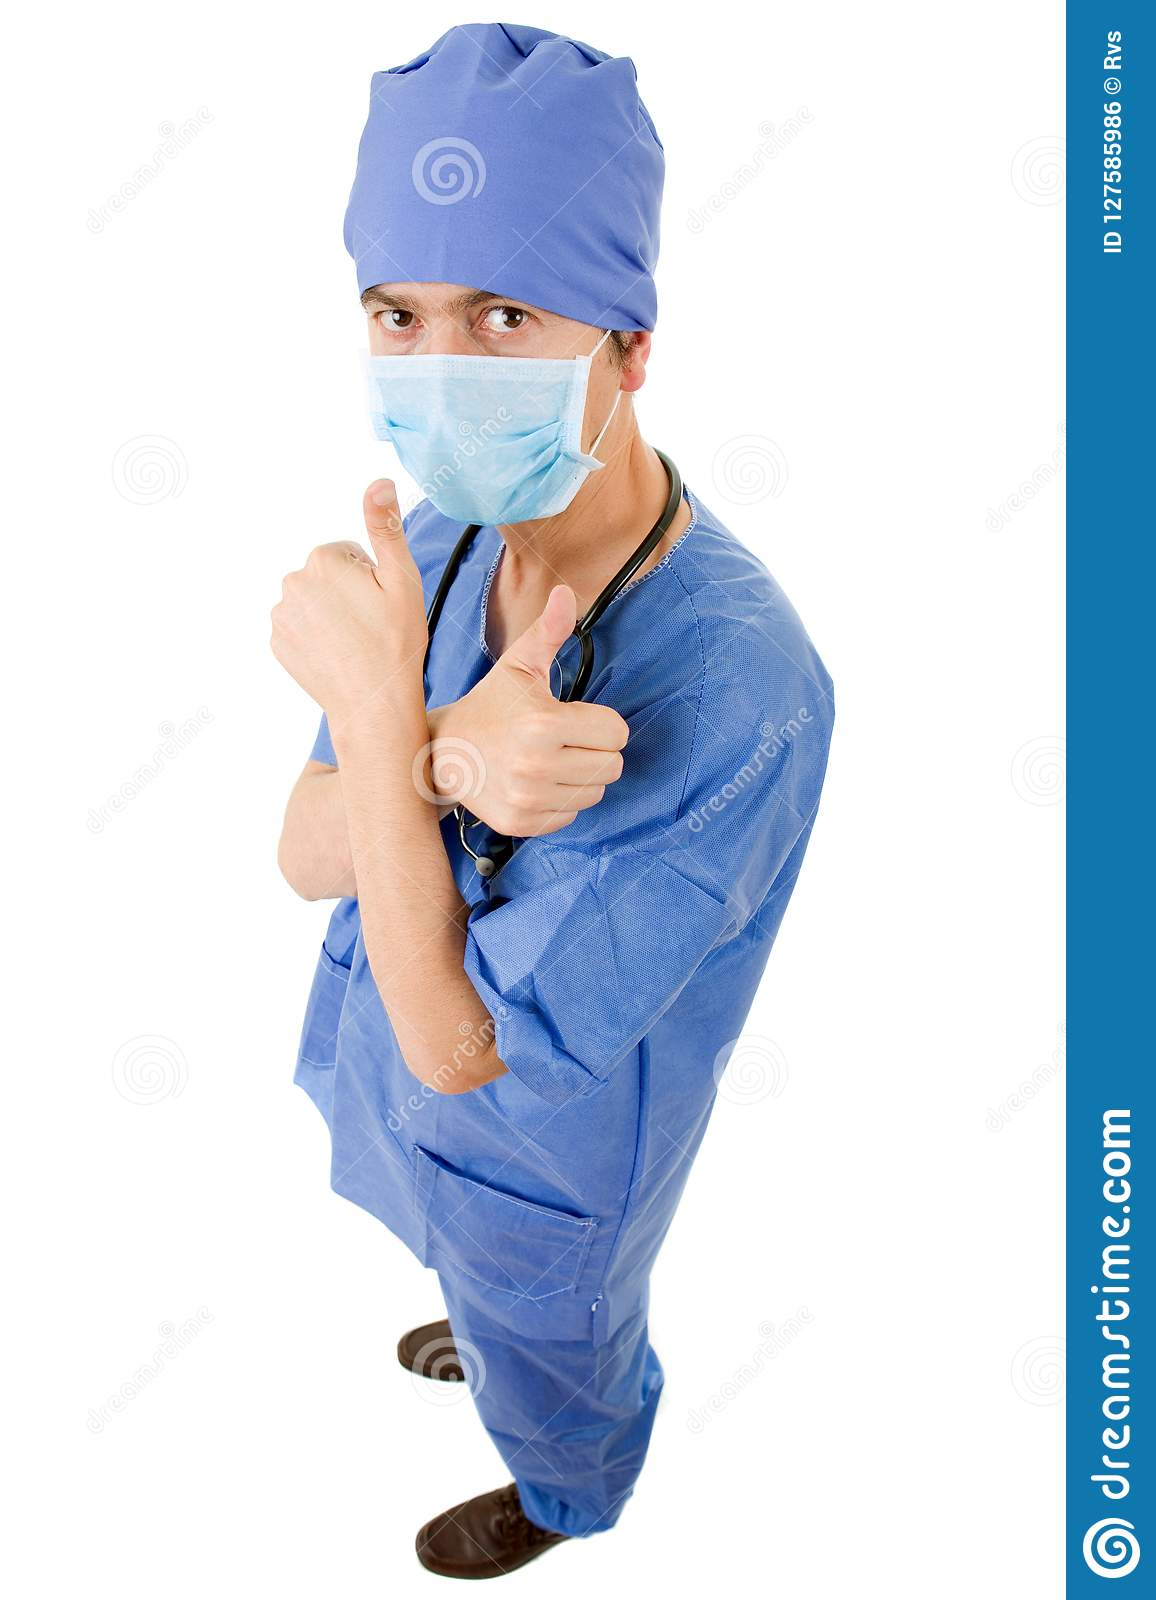mask: (368, 342, 601, 525)
